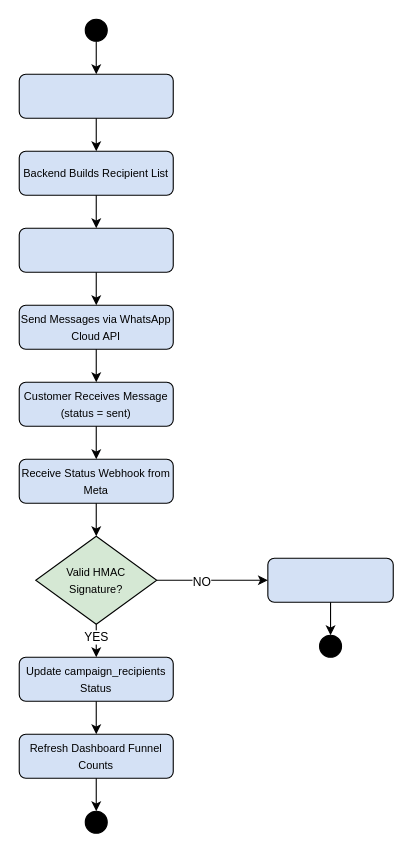
Some shapes in this 413 by 853 pixel diagram are drawn without their labels. Here are the shapes that lost their labels. From the top down, the box of each, then its label:
(18, 73, 173, 118): Analyst Configures Campaign Filters & Template
(18, 227, 173, 272): Forward Recipients & Template to wa-gateway
(267, 557, 393, 602): Reject Webhook
